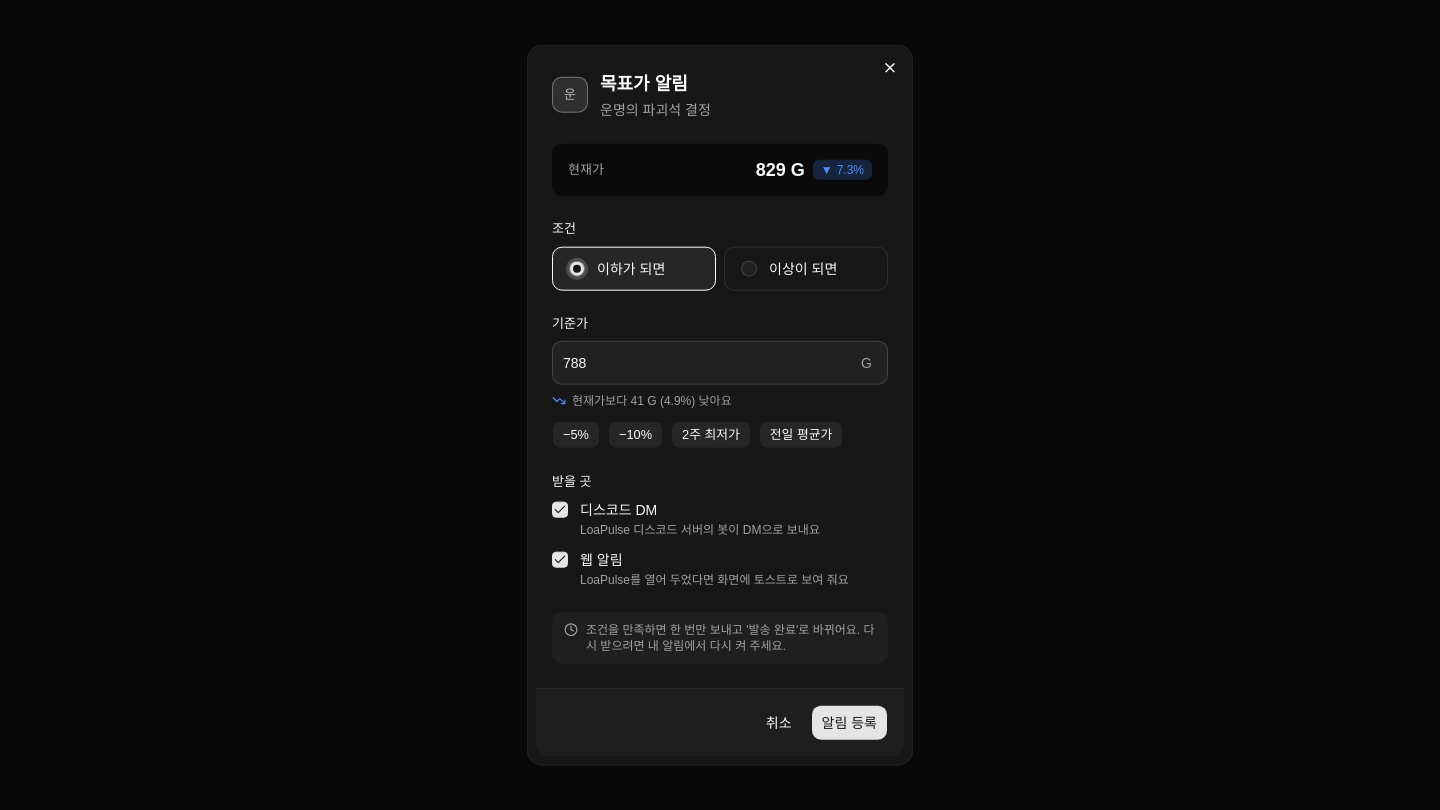
Test case: 알림 설정 모달 › 빠른 선택 버튼으로 기준가를 채운다
Click the button "−10%": (636, 435) [608,421,663,449]
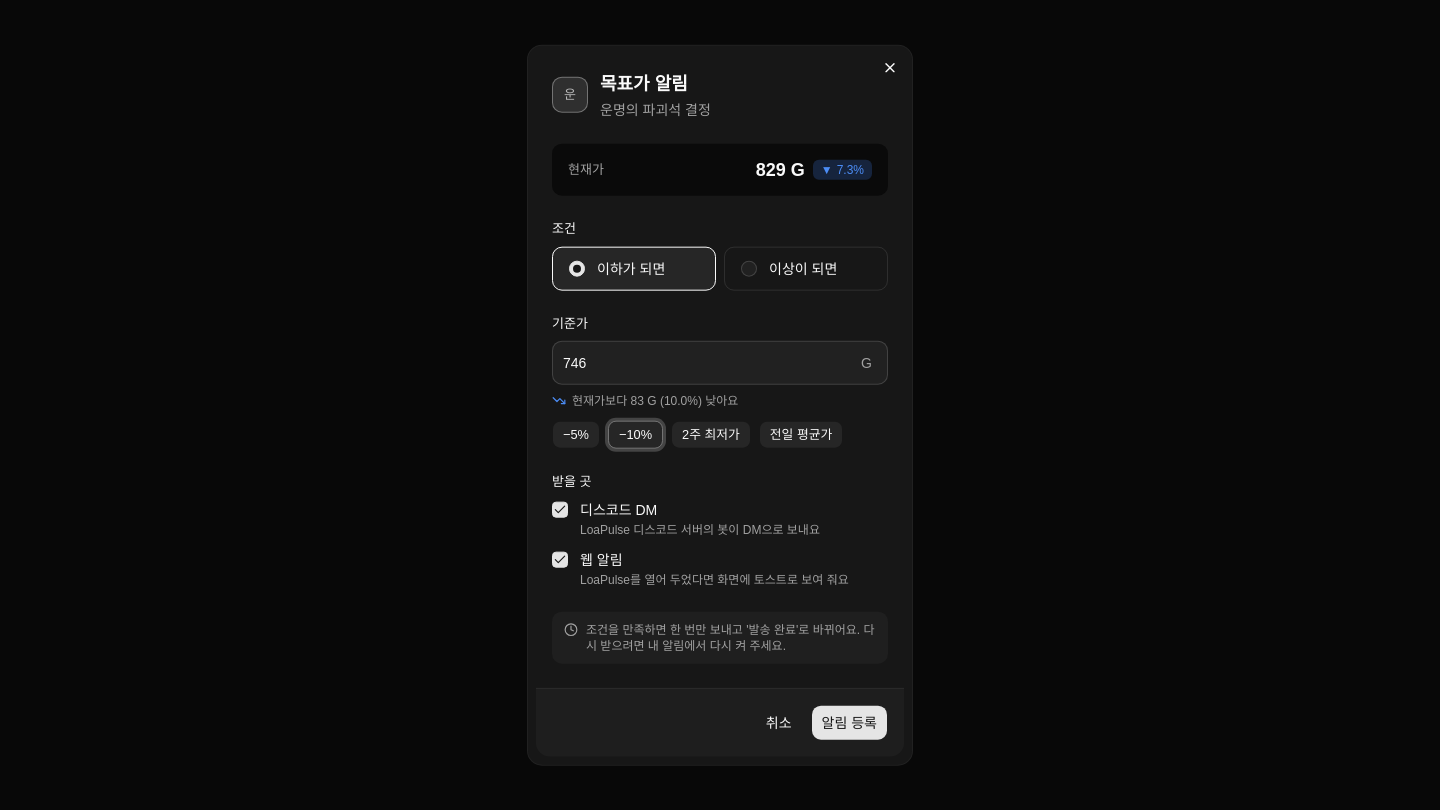
Expected: the field labelled "기준가" holds "746", [552,341,888,385]
